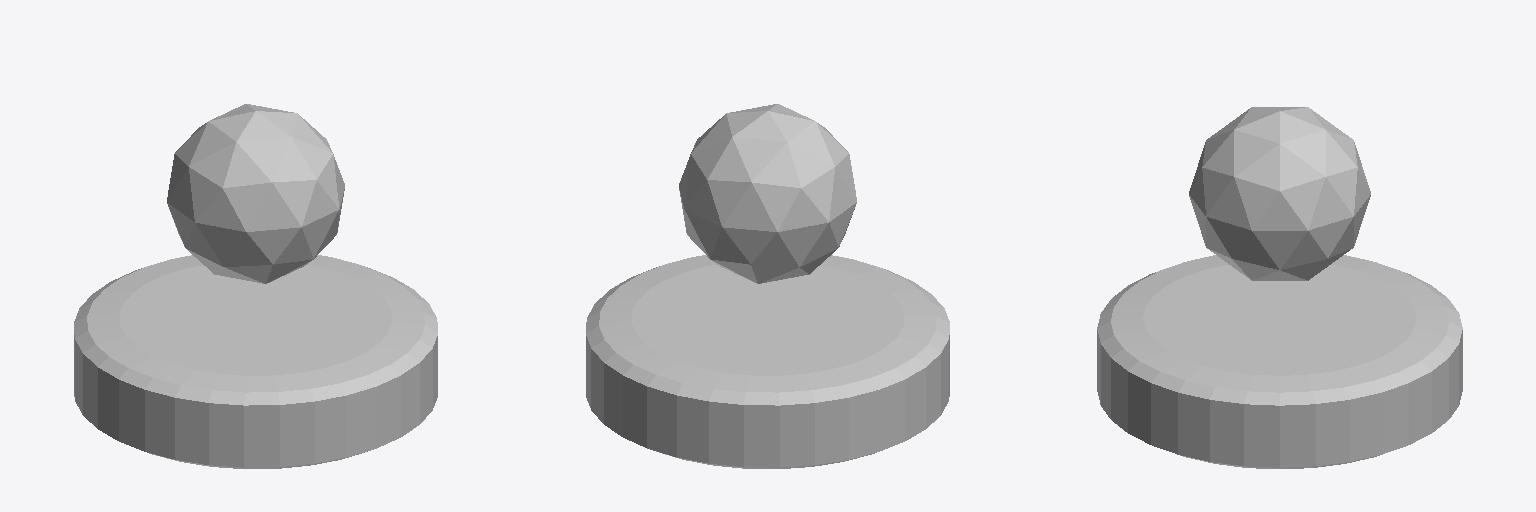
Rendered from lotto-base.obj.
The picture shows the model from 3 angles: view 1: azimuth 30°, elevation 25°; view 2: azimuth 150°, elevation 25°; view 3: azimuth 270°, elevation 25°; orthographic projection.
Parts seen in each view (by area): view 1: Cylinder; view 2: Cylinder; view 3: Cylinder.
Part boxes in pixels (left/top/right/bottom): Cylinder: left=74, top=104, right=437, bottom=468; Cylinder: left=586, top=104, right=949, bottom=468; Cylinder: left=1097, top=107, right=1462, bottom=468.
Size of the model in its own units: 2 by 1.75 by 2.